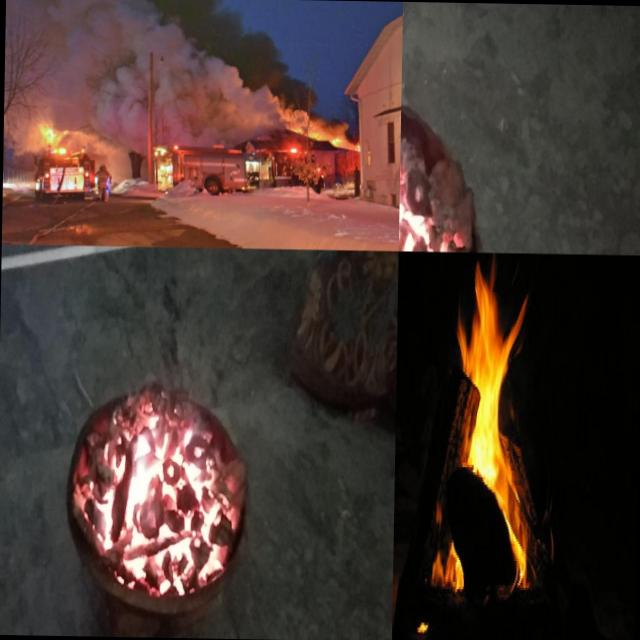fire: (94, 370, 262, 620), (445, 276, 547, 578), (331, 138, 358, 150)
smoke: (55, 0, 327, 136)
